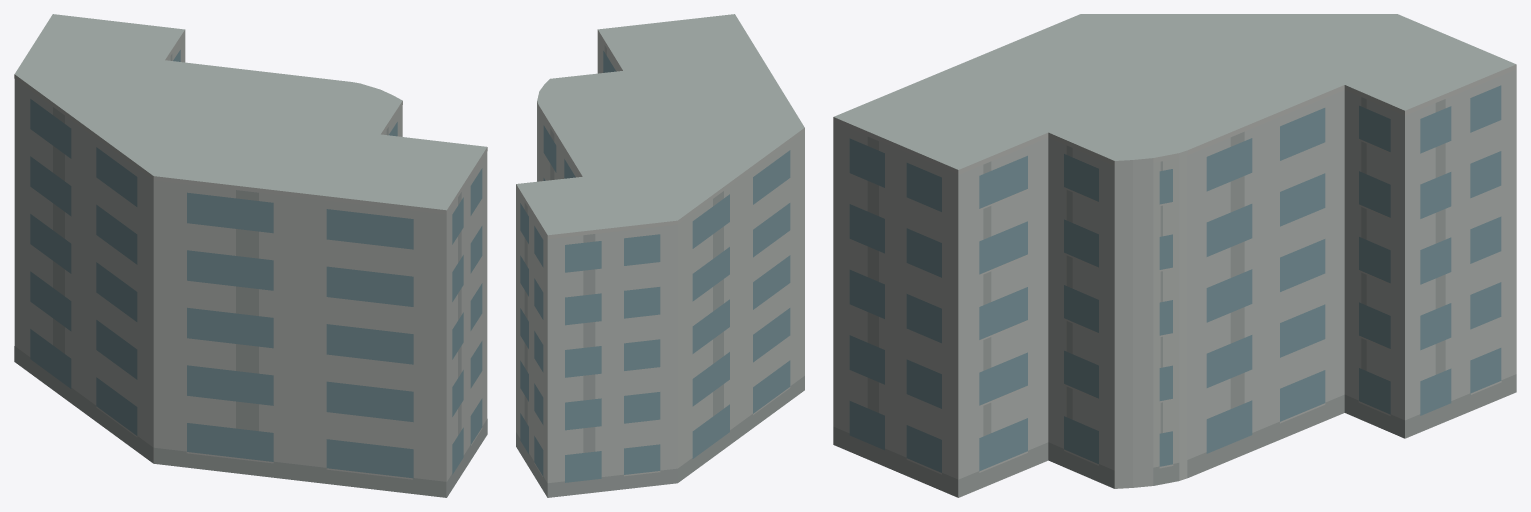
Rendered from survey-upis-32976298.glb.
3 renders of one model, left to right at view 1: azimuth 30°, elevation 25°; view 2: azimuth 150°, elevation 25°; view 3: azimuth 270°, elevation 25°, orthographic. The views are drawn at different scales.
Parts seen in each view (by area): view 1: survey-upis-32976298.tmp; view 2: survey-upis-32976298.tmp; view 3: survey-upis-32976298.tmp.
Boxes of the visible parts, x1,y1,x2,y2 form: survey-upis-32976298.tmp: (14, 14, 487, 497); survey-upis-32976298.tmp: (516, 14, 804, 497); survey-upis-32976298.tmp: (833, 14, 1516, 497).
Size of the model in its own units: 16.33 by 16 by 30.21.
